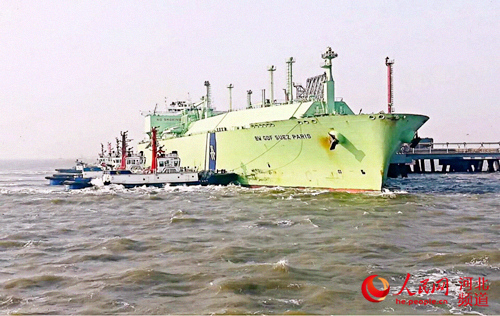Cargoship: (140, 44, 433, 200)
otherboat: (63, 147, 239, 196), (42, 128, 181, 187)
